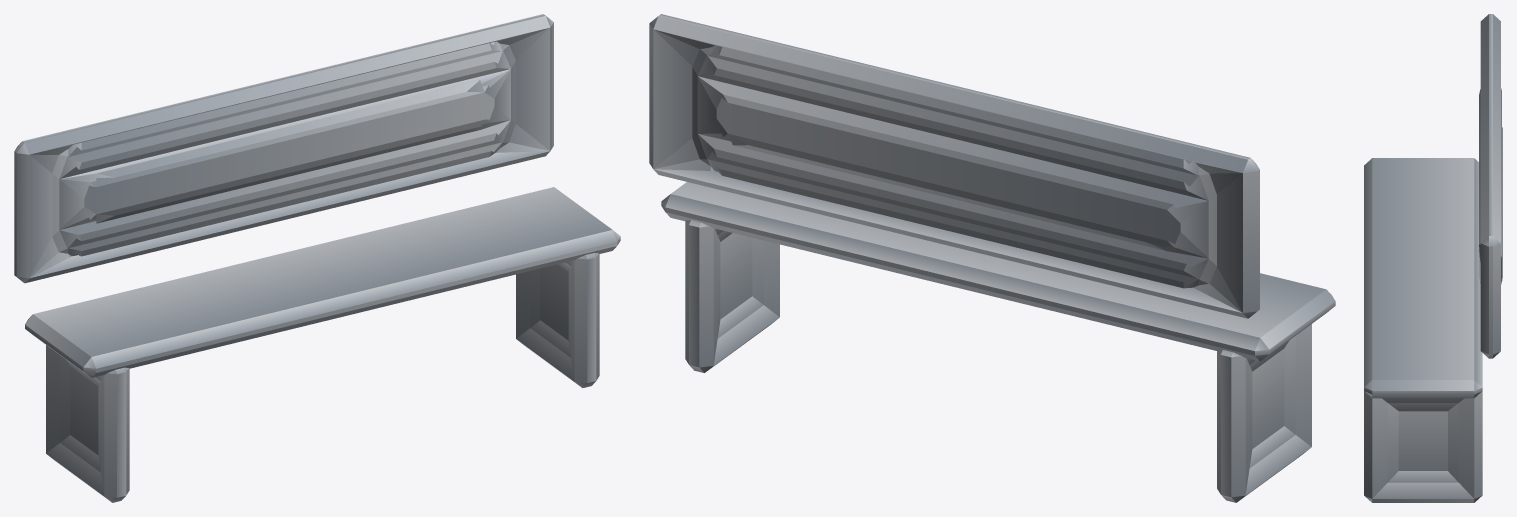
The model's file is dt_bench.fbx.
3 renders of one model, left to right at view 1: azimuth 30°, elevation 25°; view 2: azimuth 150°, elevation 25°; view 3: azimuth 270°, elevation 25°, orthographic. The views are drawn at different scales.
Visible parts, largest first — view 1: dt_bench; view 2: dt_bench; view 3: dt_bench.
Boxes of the visible parts, x1,y1,x2,y2 form: dt_bench: (14, 14, 620, 502); dt_bench: (649, 14, 1335, 502); dt_bench: (1364, 14, 1502, 502).
Size of the model in its own units: 700 by 394 by 180.
